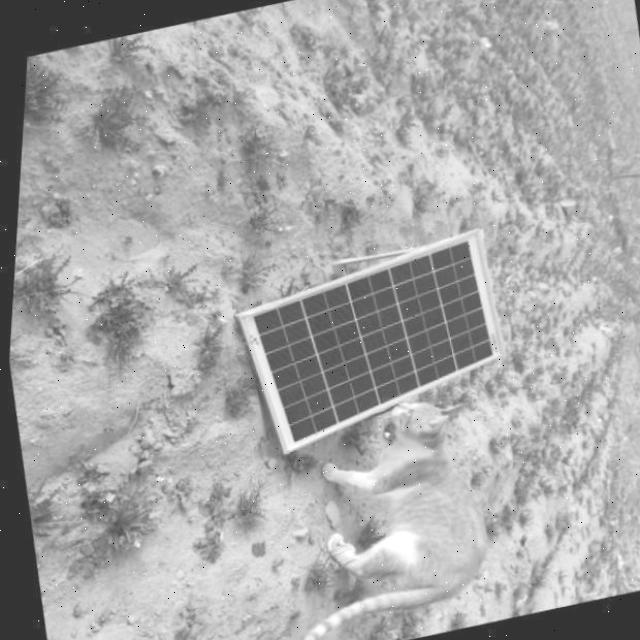Normal Solar Panel: (224, 226, 518, 458)
